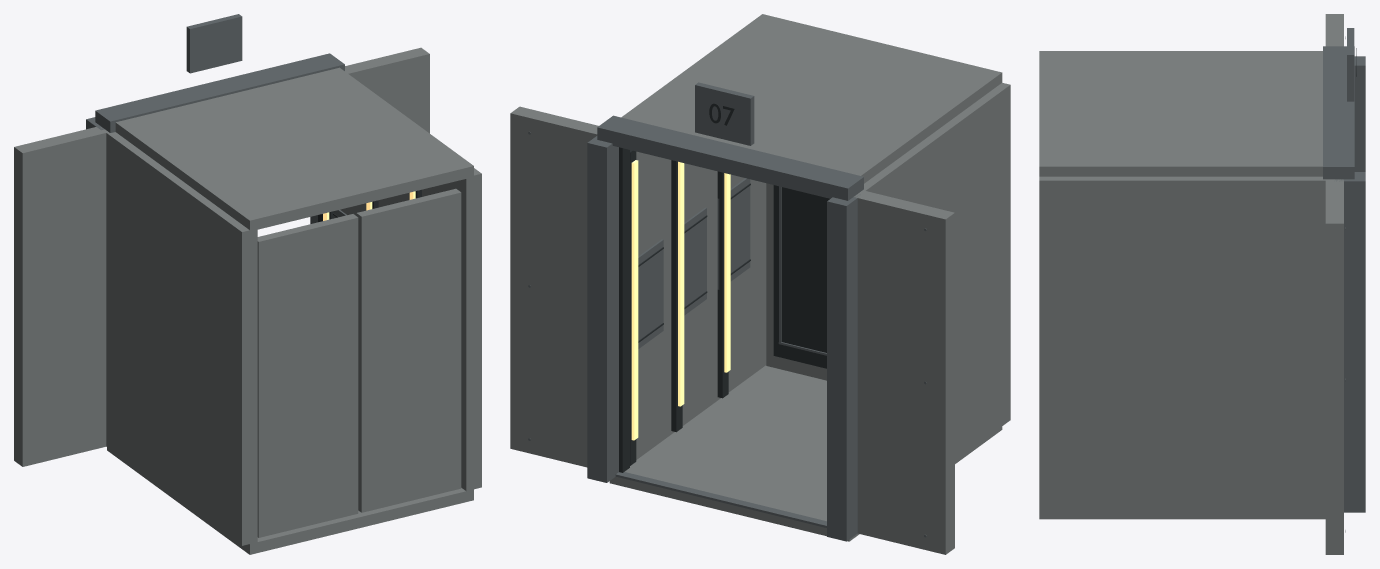
File: D01_entrance.glb
3 views of the same model, side by side, from view 1: azimuth 30°, elevation 25°; view 2: azimuth 150°, elevation 25°; view 3: azimuth 270°, elevation 25° (orthographic). The views are drawn at different scales.
Parts seen in each view (by area): view 1: Corridor side-1, Passage ceiling, Closed terminal leaf1, Closed terminal leaf-1, Door infill panel-1, Corridor side1, Overhead header, Continuous passage floor, Door infill panel1, Number plaque; view 2: Door infill panel-1, Passage ceiling, Door infill panel1, Corridor side-1, Continuous passage floor, Corridor side1, Main chamfered jamb1, Main chamfered jamb-1, Terminal inset leaf1, Overhead header, Inner dark seal1, Number plaque (+11 smaller); view 3: Corridor side1, Passage ceiling, Main chamfered jamb1, Door infill panel1, Overhead header, Continuous passage floor, Main chamfered jamb-1, Door infill panel-1, Number plaque.
Boxes of the visible parts, box(x1,y1,x2,y2) form: Corridor side-1: box(106, 132, 257, 545); Passage ceiling: box(115, 67, 473, 231); Closed terminal leaf1: box(356, 188, 461, 512); Closed terminal leaf-1: box(257, 214, 358, 537); Door infill panel-1: box(14, 127, 108, 466); Corridor side1: box(340, 168, 481, 491); Overhead header: box(95, 53, 344, 132); Continuous passage floor: box(107, 447, 473, 554); Door infill panel1: box(345, 47, 429, 133); Number plaque: box(186, 14, 242, 73); Door infill panel-1: box(854, 190, 954, 554); Passage ceiling: box(621, 14, 1002, 183); Door infill panel1: box(510, 106, 598, 467); Corridor side-1: box(856, 82, 1010, 460); Continuous passage floor: box(609, 365, 1002, 541); Corridor side1: box(636, 151, 766, 459); Main chamfered jamb1: box(587, 136, 618, 482); Main chamfered jamb-1: box(827, 194, 860, 541); Terminal inset leaf1: box(773, 185, 829, 368); Overhead header: box(597, 115, 863, 200); Inner dark seal1: box(619, 147, 629, 472); Number plaque: box(695, 82, 754, 145); Corridor side1: box(1039, 176, 1340, 511); Passage ceiling: box(1039, 51, 1322, 176); Main chamfered jamb1: box(1335, 172, 1365, 512); Door infill panel1: box(1325, 179, 1343, 554); Overhead header: box(1323, 46, 1354, 179); Continuous passage floor: box(1039, 512, 1325, 519); Main chamfered jamb-1: box(1354, 56, 1365, 171); Door infill panel-1: box(1325, 14, 1343, 46); Number plaque: box(1347, 28, 1354, 101).
Bounding box in the file's own units: 6.25 × 5.83 × 4.11.
